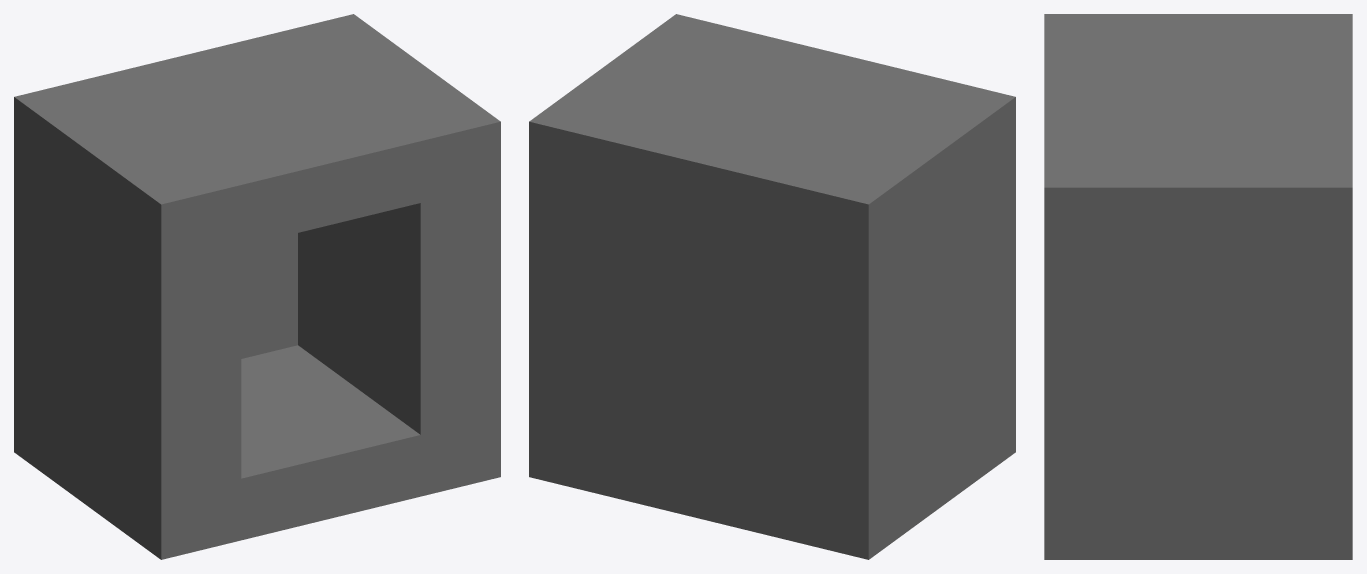
Rendered from hole.obj.
The picture shows the model from 3 angles, left to right: view 1: azimuth 30°, elevation 25°; view 2: azimuth 150°, elevation 25°; view 3: azimuth 270°, elevation 25°; orthographic projection. The views are drawn at different scales.
Parts seen in each view (by area): view 1: hole; view 2: hole; view 3: hole.
Part boxes in pixels (bbox=[...]): hole: bbox=[14, 14, 500, 559]; hole: bbox=[529, 14, 1015, 559]; hole: bbox=[1044, 14, 1352, 559].
Size of the model in its own units: 0.08 by 0.08 by 0.06.
1 material, 1 textured.
